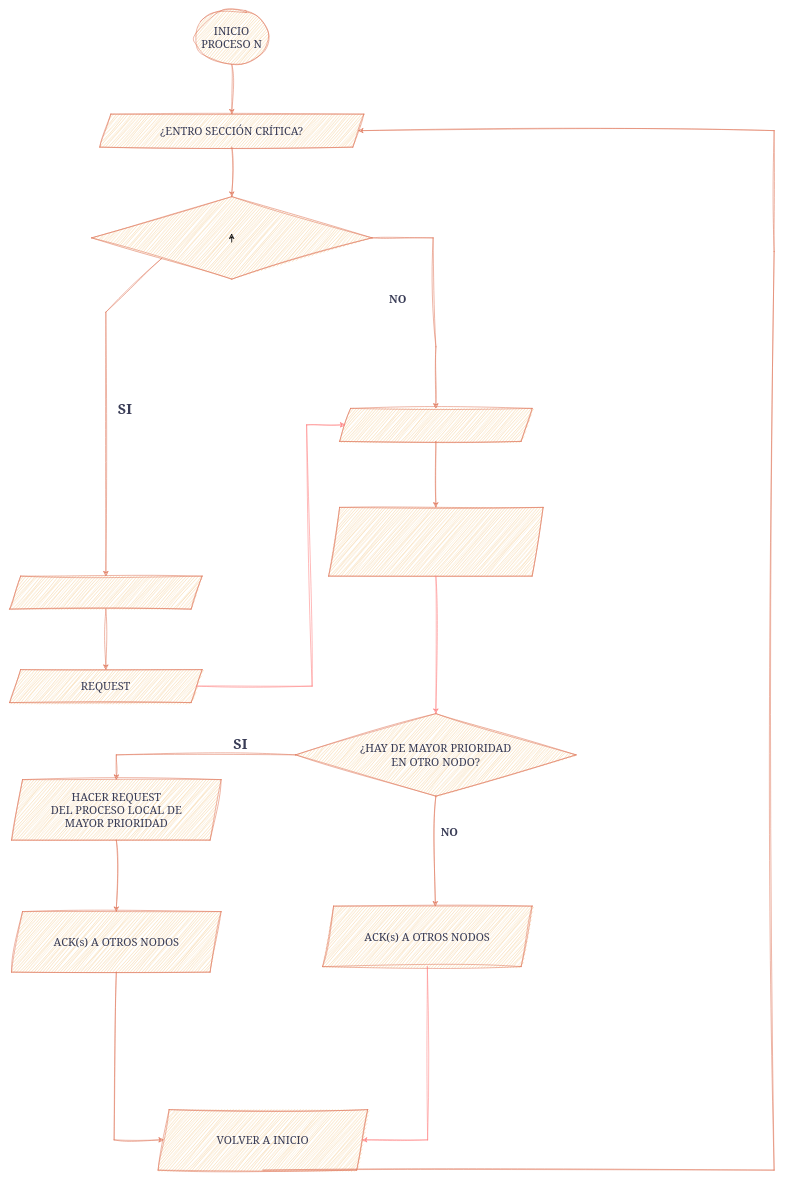
The diagram is 788 pixels wide and 1184 high, and some of its shapes have lost their labels. Each missing label, with the centre of its shape:
"CANCELAR REQUEST DE MENOS PRIORITARIOS" goes at (105,592).
"ESPERAR COLA DEL PROCESO" goes at (435,424).
"primero || ¿ prioritario?" goes at (231,237).
"SC" goes at (435,541).
